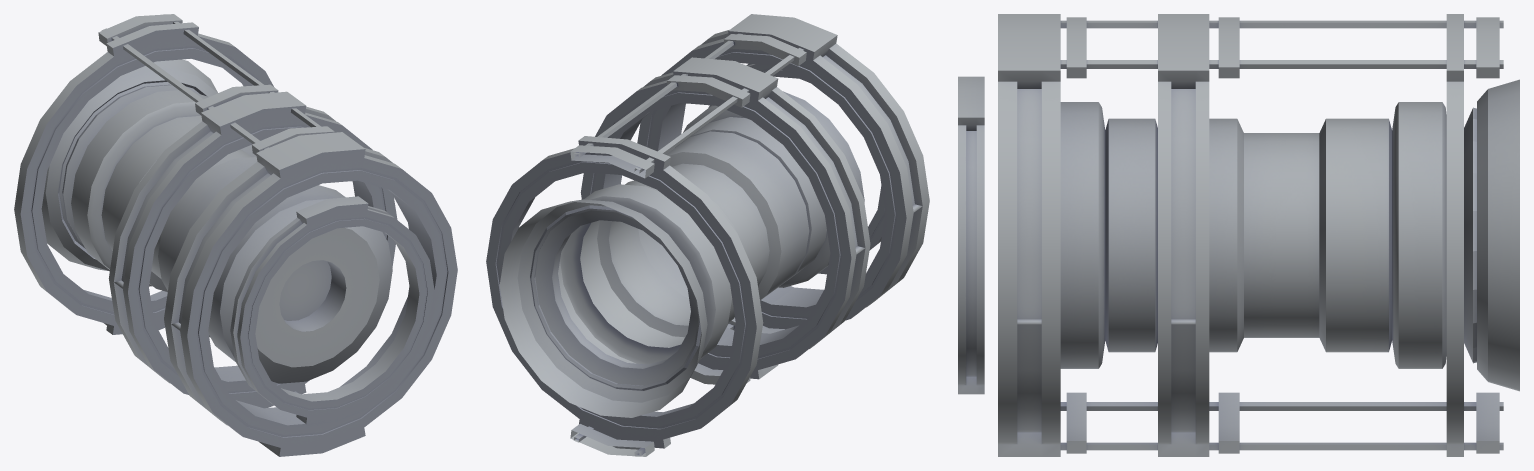
Rendered from Laser_Trap_A.fbx.
3 renders of one model, left to right at view 1: azimuth 30°, elevation 25°; view 2: azimuth 150°, elevation 25°; view 3: azimuth 270°, elevation 25°, orthographic. The views are drawn at different scales.
Visible parts, largest first — view 1: Laser_Type_A; view 2: Laser_Type_A; view 3: Laser_Type_A.
Boxes of the visible parts, box(x1,y1,x2,y2) form: Laser_Type_A: box(14, 14, 457, 456); Laser_Type_A: box(486, 14, 929, 456); Laser_Type_A: box(958, 14, 1519, 456).
Size of the model in its own units: 40.67 by 43.18 by 54.3.
Materials: 1 (1 with a texture image).
